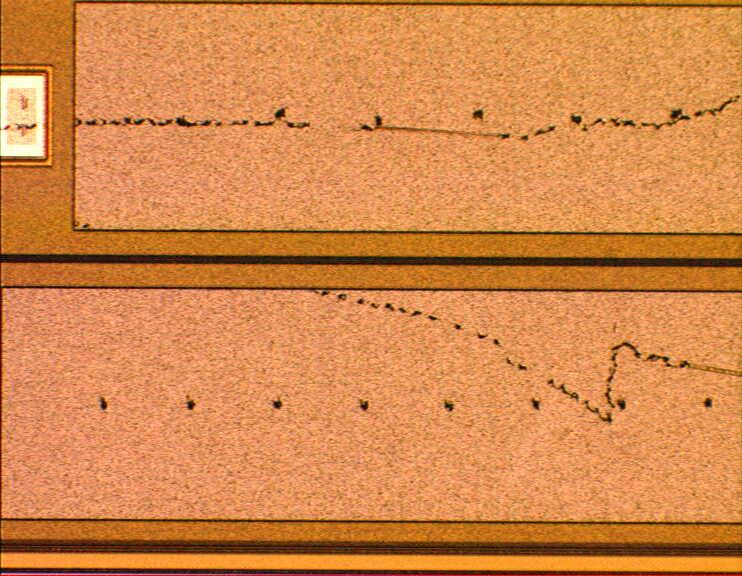SCRATCH: (1, 92, 742, 438)
